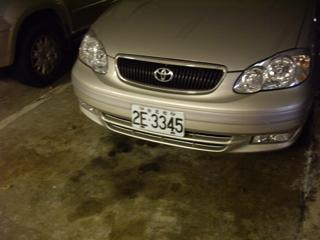plate: (129, 103, 186, 140)
